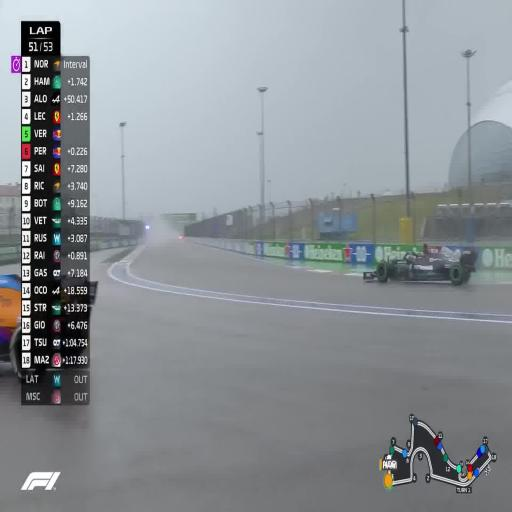f1_car: (363, 247, 477, 284), (0, 274, 27, 378), (60, 277, 97, 338), (59, 346, 83, 354), (80, 307, 83, 318), (49, 340, 51, 342)
